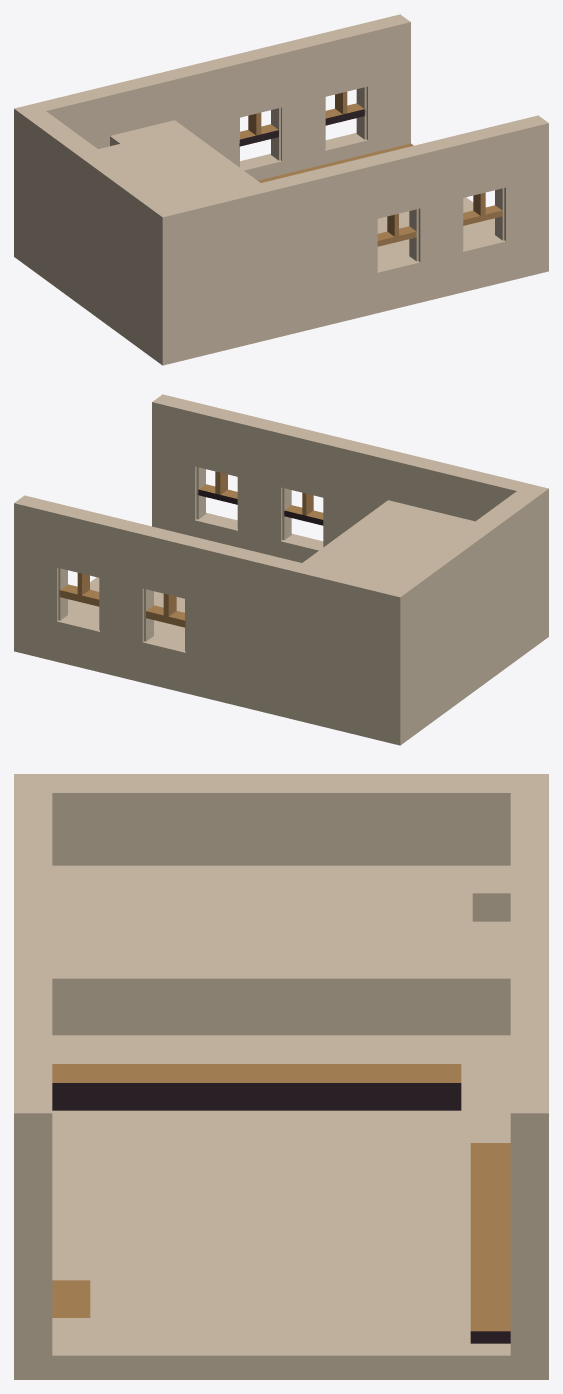
The model's file is LCestrutura.fbx.
The picture shows the model from 3 angles, top to bottom: view 1: azimuth 30°, elevation 25°; view 2: azimuth 150°, elevation 25°; view 3: azimuth 270°, elevation 25°; orthographic projection. The views are drawn at different scales.
Visible parts, largest first — view 1: Construçao.001; view 2: Construçao.001; view 3: Construçao.001.
Boxes of the visible parts, left/top/right/bottom form: Construçao.001: left=14, top=14, right=548, bottom=365; Construçao.001: left=14, top=394, right=548, bottom=745; Construçao.001: left=14, top=774, right=548, bottom=1379.
Size of the model in its own units: 6000 by 2200 by 4000.
